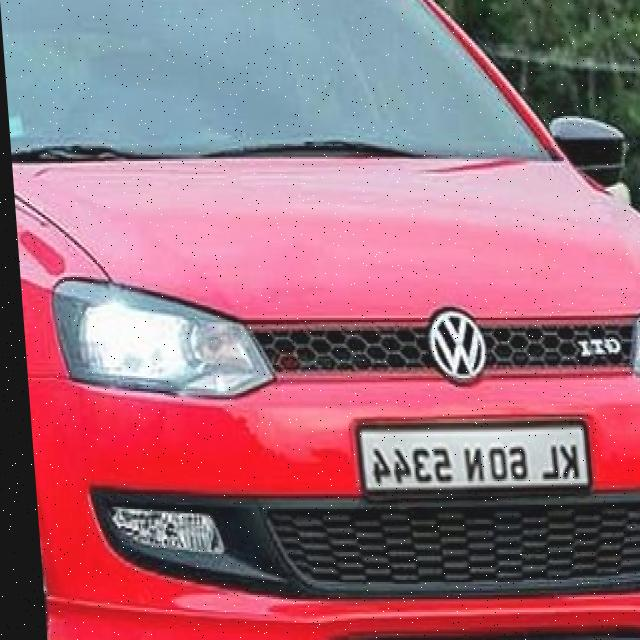plate: (351, 424, 582, 492)
